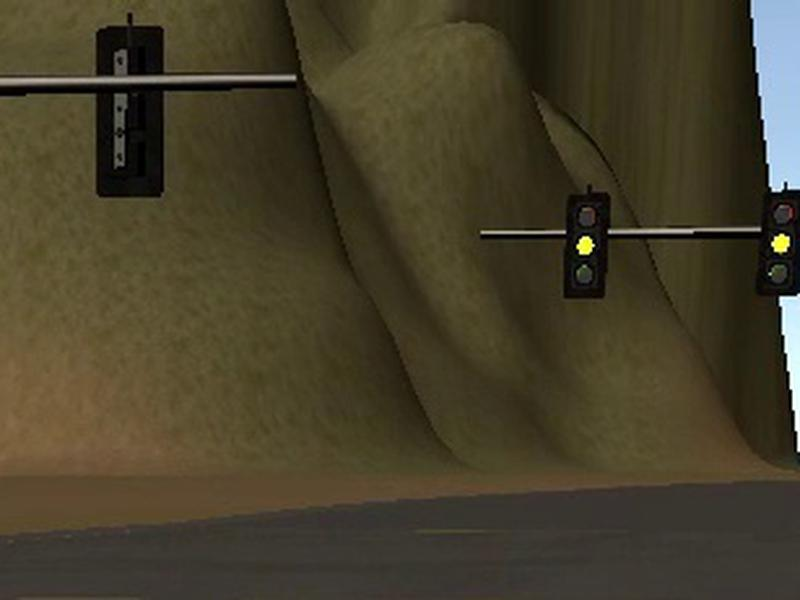Yellow: (562, 193, 610, 298), (753, 189, 800, 294)
